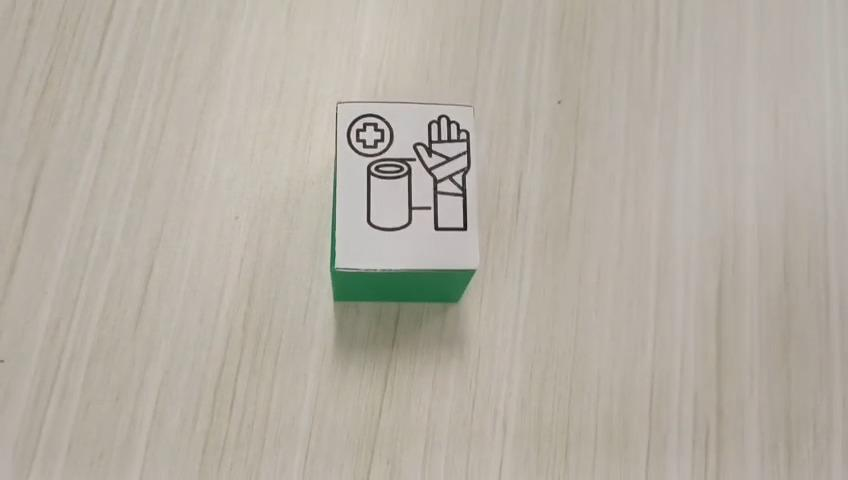Bandages: (329, 100, 480, 302)
